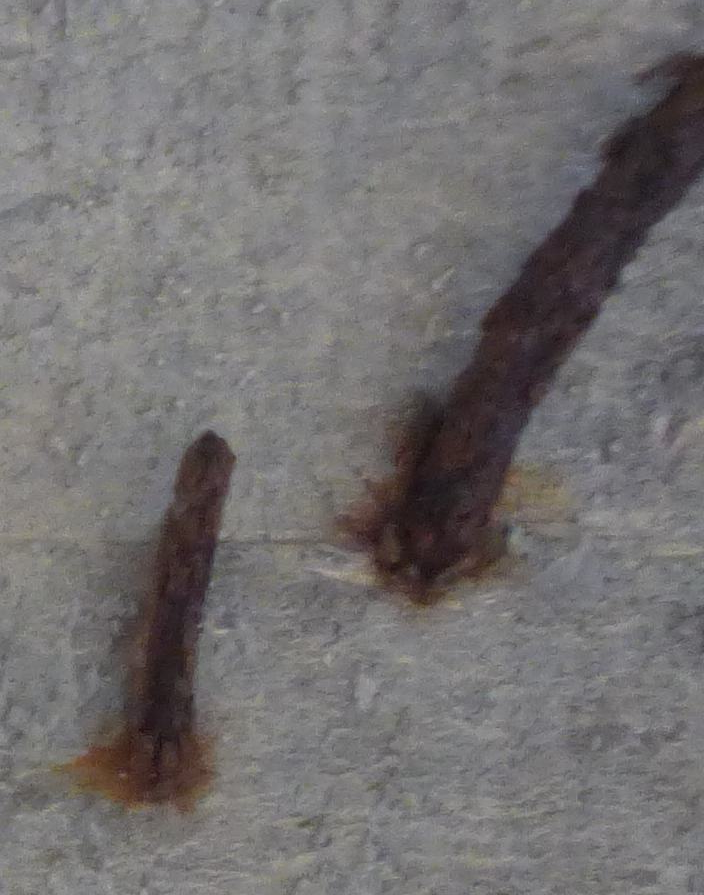Exposed reinforcement: (384, 53, 704, 580), (139, 429, 238, 764)
